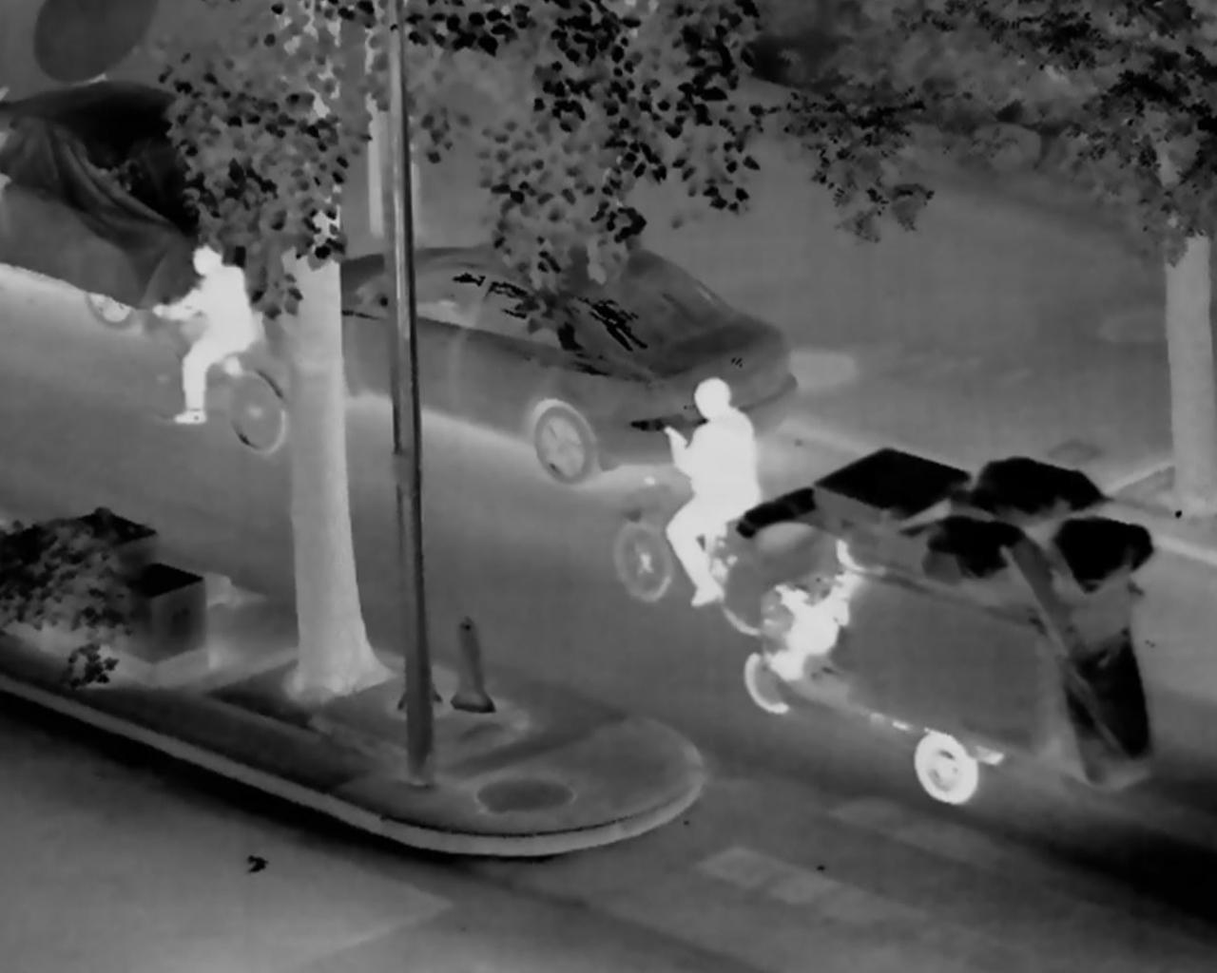person: (665, 376, 757, 607), (152, 240, 258, 426), (771, 527, 866, 678)
